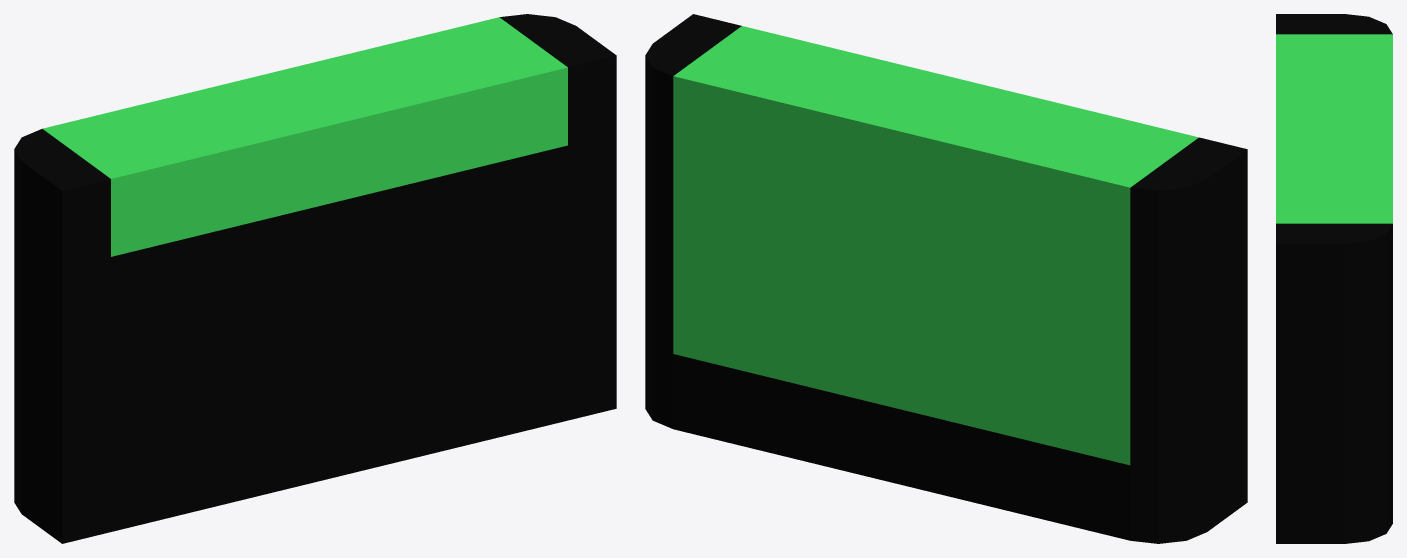
File: SM_EffectModule.fbx
3 renders of one model, left to right at view 1: azimuth 30°, elevation 25°; view 2: azimuth 150°, elevation 25°; view 3: azimuth 270°, elevation 25°, orthographic. The views are drawn at different scales.
Parts seen in each view (by area): view 1: EffectModule; view 2: EffectModule; view 3: EffectModule.
Boxes of the visible parts, <box> form: EffectModule: <box>14,14,616,543</box>; EffectModule: <box>645,14,1247,543</box>; EffectModule: <box>1276,14,1392,543</box>.
Bounding box in the file's own units: 228 × 138 × 48.84.
